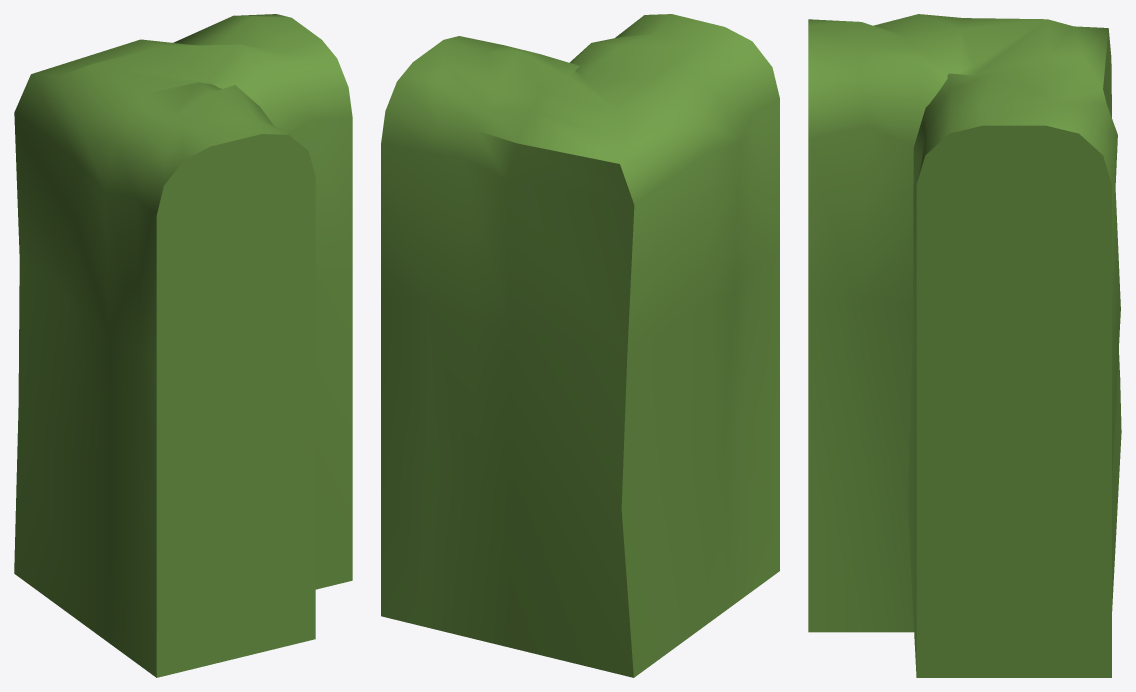
Rendered from hedge_corner.glb.
3 views of the same model, side by side, from view 1: azimuth 30°, elevation 25°; view 2: azimuth 150°, elevation 25°; view 3: azimuth 270°, elevation 25° (orthographic). The views are drawn at different scales.
Visible parts, largest first — view 1: hedge_corner; view 2: hedge_corner; view 3: hedge_corner.
Part boxes in pixels (<box>): hedge_corner: <box>14,14,352,677</box>; hedge_corner: <box>381,14,779,677</box>; hedge_corner: <box>808,14,1121,677</box>.
Bounding box in the file's own units: 1.52 × 3.02 × 1.52.
Materials: 1 (1 with a texture image).
